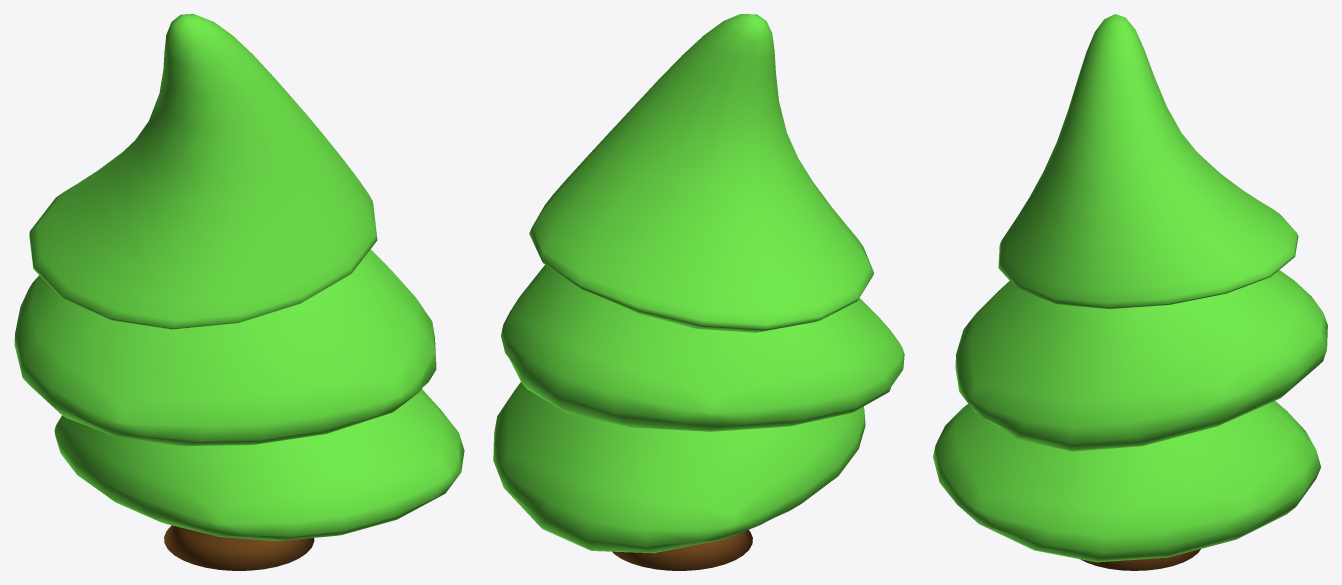
The model's file is tree6.glb.
3 renders of one model, left to right at view 1: azimuth 30°, elevation 25°; view 2: azimuth 150°, elevation 25°; view 3: azimuth 270°, elevation 25°, orthographic. The views are drawn at different scales.
Parts seen in each view (by area): view 1: tree6; view 2: tree6; view 3: tree6.
Boxes of the visible parts, x1,y1,x2,y2 form: tree6: (14,14,464,570); tree6: (493,14,904,570); tree6: (933,14,1327,570).
Size of the model in its own units: 3.16 by 4.24 by 3.04.
